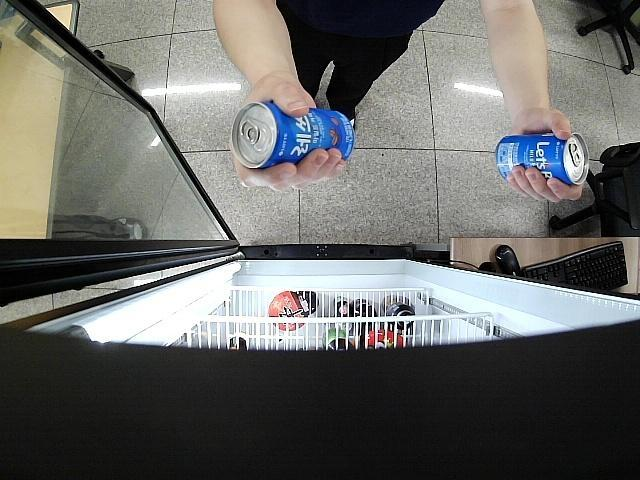15_letsbe: (230, 102, 354, 169), (497, 130, 590, 186)
